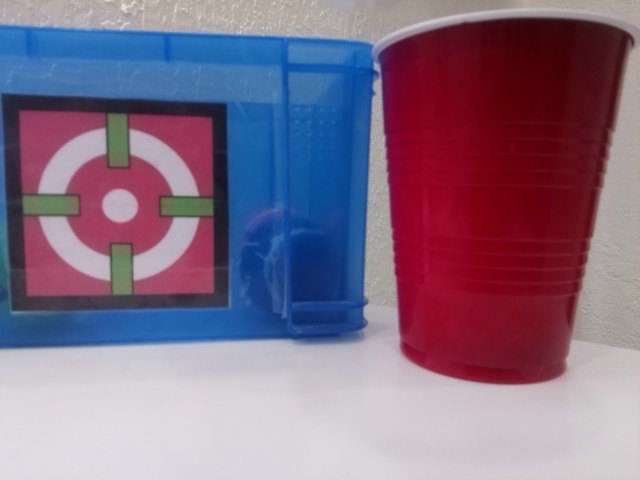drop-bin: (1, 93, 230, 311)
